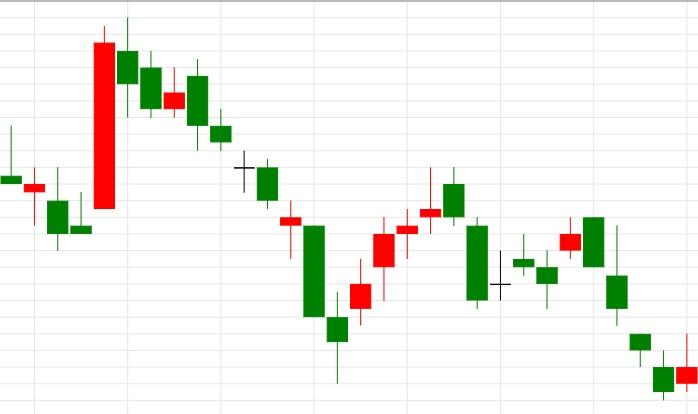morning_star_rise: (187, 58, 372, 384)
